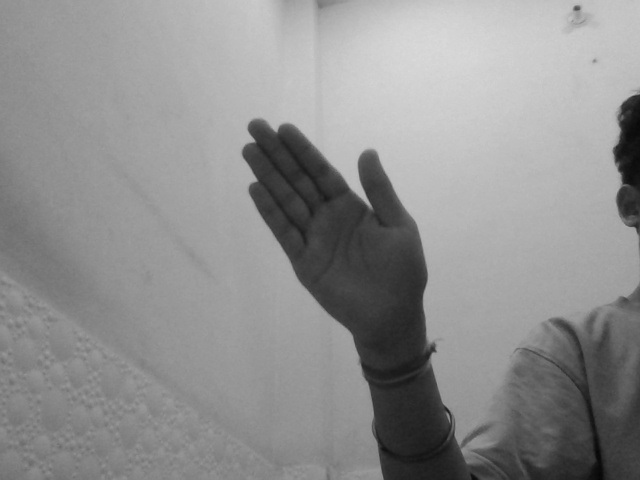Hello: (237, 114, 435, 355)
